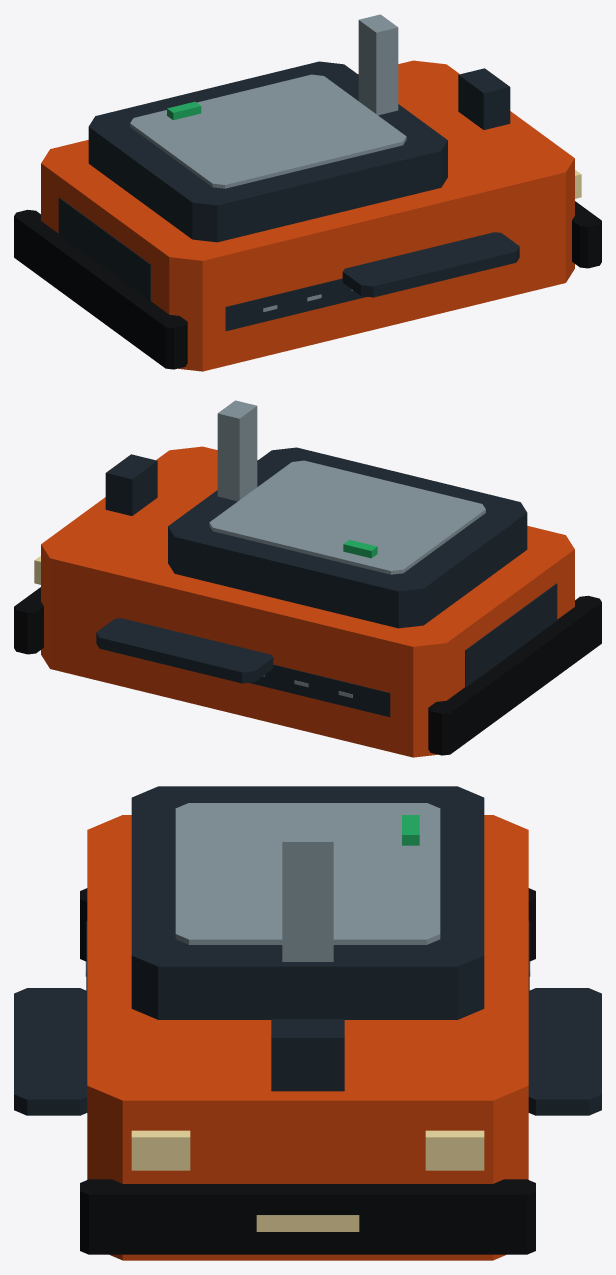
File: body.dae
The picture shows the model from 3 angles, top to bottom: view 1: azimuth 30°, elevation 25°; view 2: azimuth 150°, elevation 25°; view 3: azimuth 270°, elevation 25°; orthographic projection. The views are drawn at different scales.
Visible parts, largest first — view 1: model; view 2: model; view 3: model.
Boxes of the visible parts, box(x1,y1,x2,y2) form: model: box(14, 14, 601, 371); model: box(14, 400, 601, 757); model: box(14, 786, 601, 1260).
Bounding box in the file's own units: 0.496 × 0.4 × 0.25.
